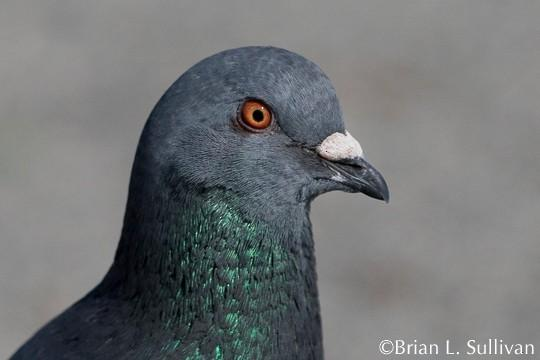Flying Rat: (1, 44, 389, 360)
